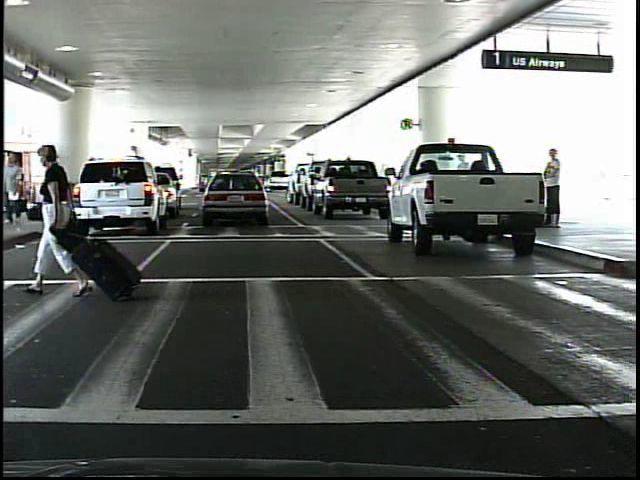person: (20, 143, 91, 292), (529, 149, 567, 229), (3, 153, 25, 224), (44, 157, 65, 222)
